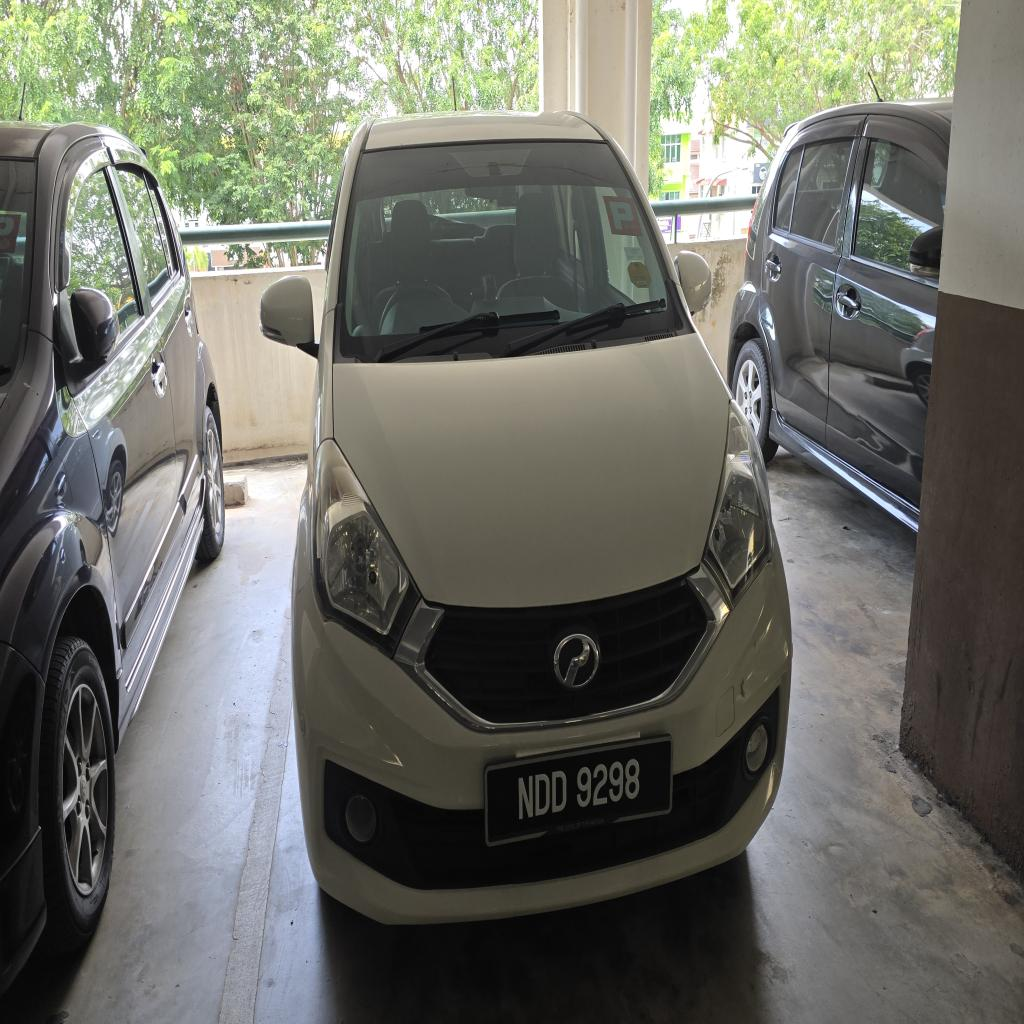car: (261, 114, 790, 922)
car plate: (485, 737, 671, 845)
